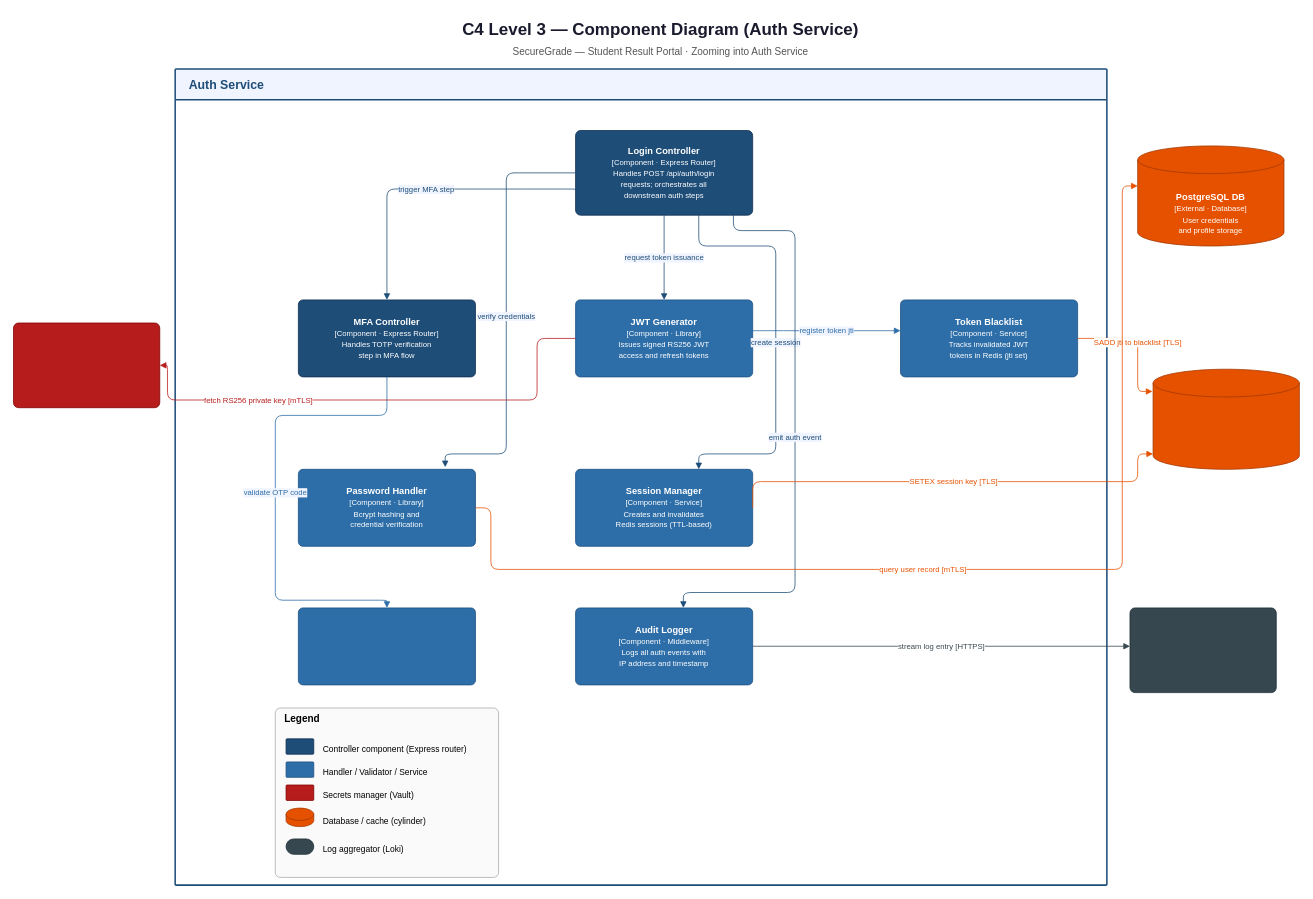
The diagram is 1313 pixels wide and 899 high, and some of its shapes have lost their labels. The shapes that lost their labels are listed below. From the top down, each one's centre as x and y in pixels, then its label:
the point at 86,365: HashiCorp Vault [External · Secrets Manager] Provides JWT RS256 signing key pair
the point at 1225,418: Redis Cache [External · Cache] Active sessions and token blacklist
the point at 386,646: TOTP Validator [Component · Library] Validates time-based OTP codes (RFC 6238)
the point at 1202,650: Loki [External · Log Aggregator] Receives structured audit log streams
